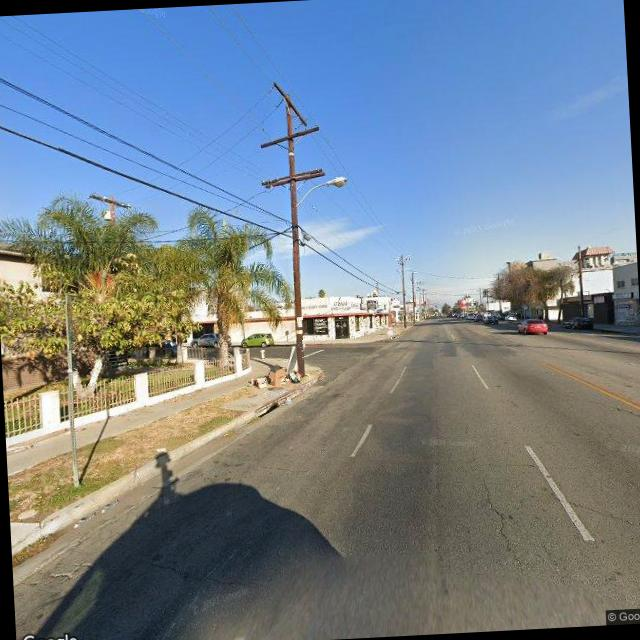crack: (140, 547, 251, 596), (477, 473, 522, 573), (568, 494, 640, 550), (570, 496, 640, 548)
